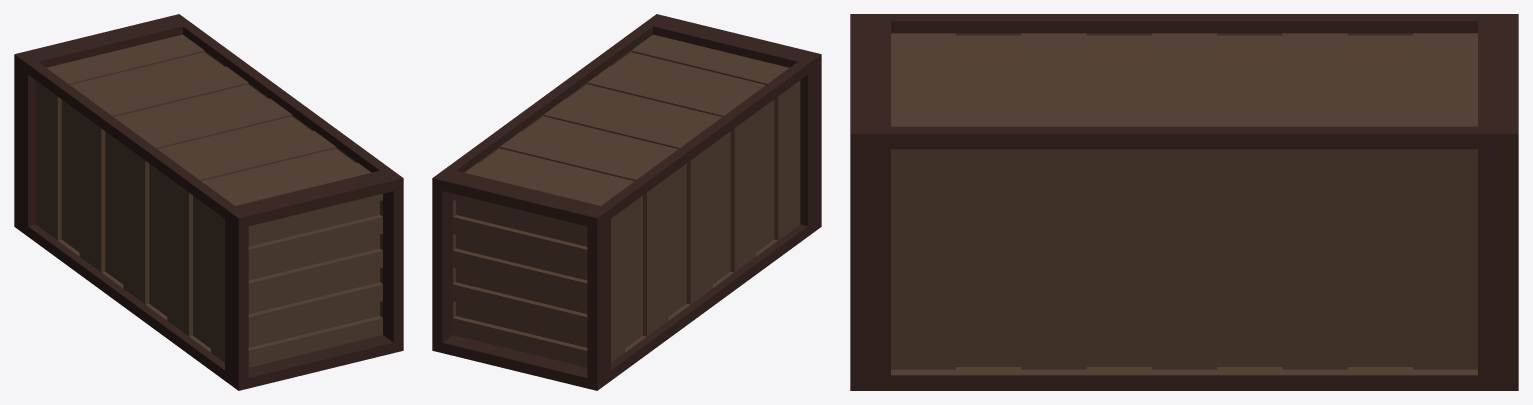
File: P_CRATE 02.fbx
The picture shows the model from 3 angles, left to right: view 1: azimuth 30°, elevation 25°; view 2: azimuth 150°, elevation 25°; view 3: azimuth 270°, elevation 25°; orthographic projection. The views are drawn at different scales.
Parts seen in each view (by area): view 1: Crate_02; view 2: Crate_02; view 3: Crate_02.
Boxes of the visible parts, x1,y1,x2,y2 form: Crate_02: [14, 14, 403, 390]; Crate_02: [432, 14, 821, 390]; Crate_02: [850, 14, 1518, 390].
Size of the model in its own units: 63.96 by 63.96 by 151.
